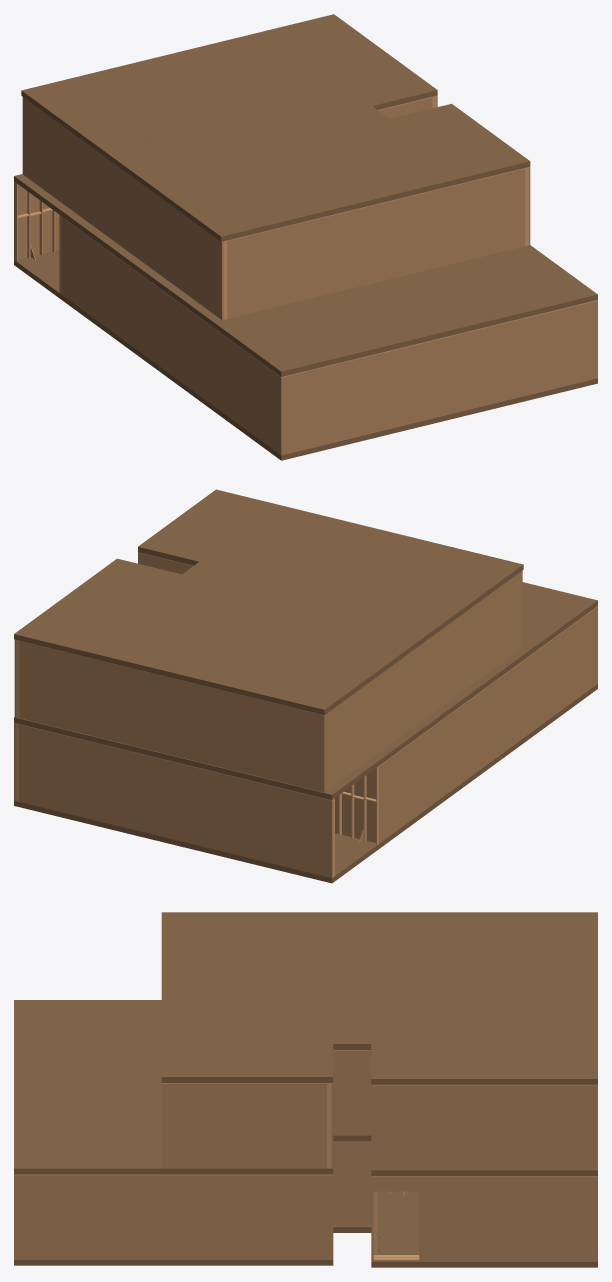
File: Killhouse Baked.fbx
3 renders of one model, top to bottom at view 1: azimuth 30°, elevation 25°; view 2: azimuth 150°, elevation 25°; view 3: azimuth 270°, elevation 25°, orthographic. The views are drawn at different scales.
Visible parts, largest first — view 1: Stud Wall 1.015, Stud Wall 1.016, Stud Wall 1.017, Stud Wall 1.018, Stud Wall 1.014, Stud Wall 1.049, Stud Wall 1.048, Stud Wall 1.052, Stud Wall 1.050, Stud Wall 1.053, Top Floor Studs.035, Top Floor Studs.044 (+51 smaller); view 2: Stud Wall 1.040, Stud Wall 1.041, Stud Wall 1.063, Stud Wall 1.024, Stud Wall 1.025, Stud Wall 1.039, Stud Wall 1.065, Stud Wall 1.062, Stud Wall 1.061, Stud Wall 1.064, Top Floor Studs.041, Top Floor Studs.042 (+45 smaller); view 3: Stud Wall 1.067, Stud Wall 1.058, Stud Wall 1.011, Stud Wall 1, Stud Wall 1.012, Stud Wall 1.013, Stud Wall 1.023, Stud Wall 1.010, Stud Wall 1.068, Stud Wall 1.059, Stud Wall 1.070, Top Floor Studs.035 (+47 smaller).
Part boxes in pixels (x1,y1,x2,y2): Stud Wall 1.015: (344, 347, 407, 439); Stud Wall 1.016: (408, 332, 471, 424); Stud Wall 1.017: (471, 316, 534, 408); Stud Wall 1.018: (534, 301, 596, 393); Stud Wall 1.014: (283, 362, 344, 454); Stud Wall 1.049: (347, 197, 407, 289); Stud Wall 1.048: (287, 212, 347, 303); Stud Wall 1.052: (408, 182, 468, 274); Stud Wall 1.050: (227, 227, 287, 318); Stud Wall 1.053: (468, 168, 525, 259); Top Floor Studs.035: (420, 131, 530, 183); Top Floor Studs.044: (139, 120, 251, 169); Stud Wall 1.040: (269, 786, 332, 877); Stud Wall 1.041: (145, 755, 207, 847); Stud Wall 1.063: (19, 641, 81, 733); Stud Wall 1.024: (19, 725, 81, 816); Stud Wall 1.025: (82, 740, 144, 832); Stud Wall 1.039: (207, 771, 269, 862); Stud Wall 1.065: (261, 700, 322, 791); Stud Wall 1.062: (141, 671, 201, 762); Stud Wall 1.061: (81, 656, 141, 747); Stud Wall 1.064: (201, 685, 261, 776); Top Floor Studs.041: (79, 619, 189, 671); Top Floor Studs.042: (14, 603, 120, 654); Stud Wall 1.067: (507, 1085, 596, 1170); Stud Wall 1.058: (238, 1084, 326, 1168); Stud Wall 1.011: (173, 1175, 253, 1259); Stud Wall 1: (438, 1177, 517, 1261); Stud Wall 1.012: (94, 1175, 173, 1259); Stud Wall 1.013: (14, 1175, 93, 1259); Stud Wall 1.023: (518, 1177, 597, 1261); Stud Wall 1.010: (253, 1175, 331, 1259); Stud Wall 1.068: (431, 1085, 507, 1170); Stud Wall 1.059: (162, 1084, 237, 1168); Stud Wall 1.070: (371, 1085, 431, 1170); Top Floor Studs.035: (161, 1040, 252, 1082).
Bounding box in the file's own units: 1091 × 557 × 1562.
